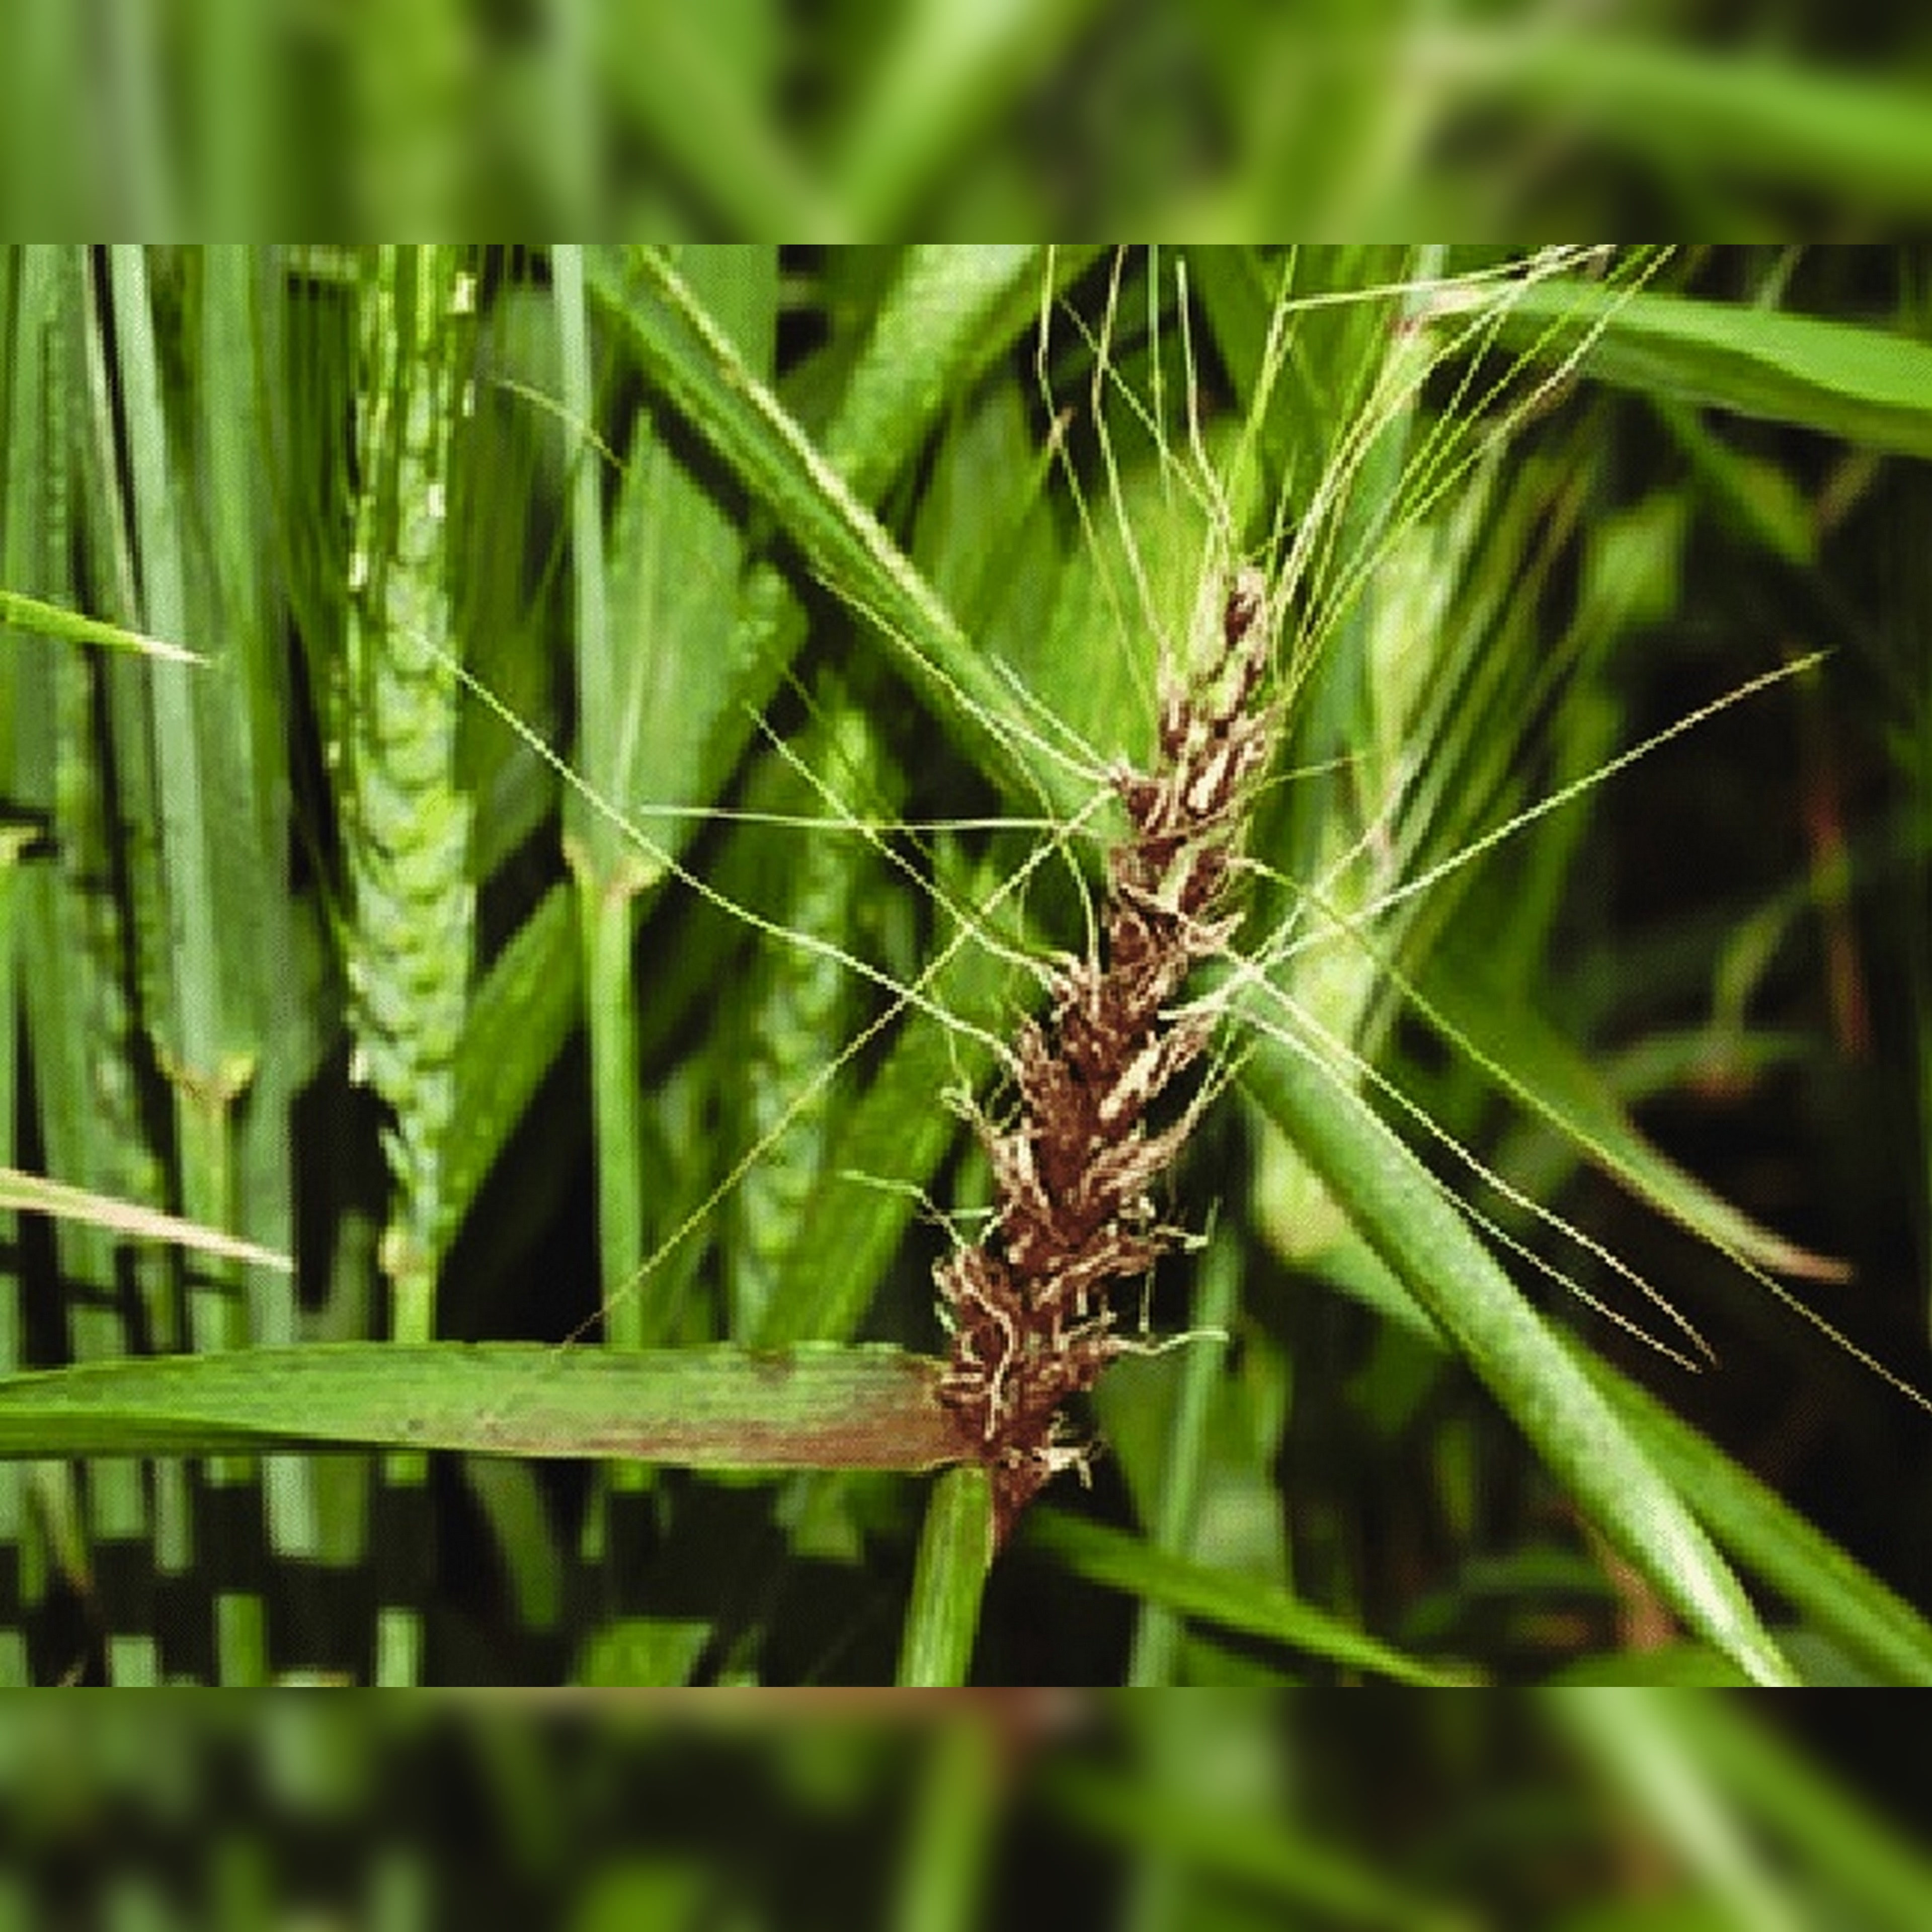Wheat Loose Smut: (870, 625, 1352, 1516)
